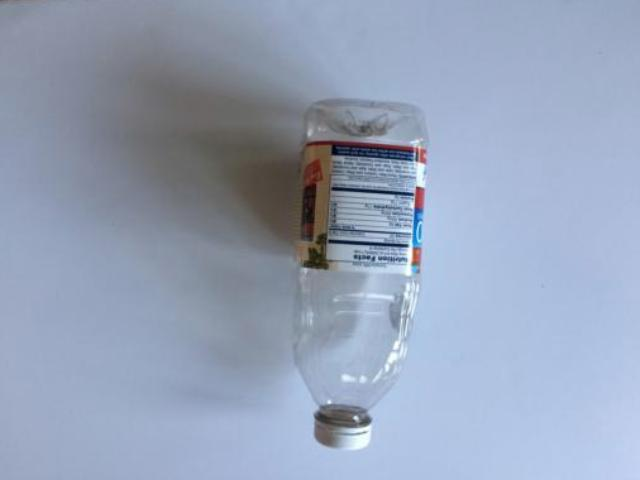plastic: (296, 103, 429, 451)
